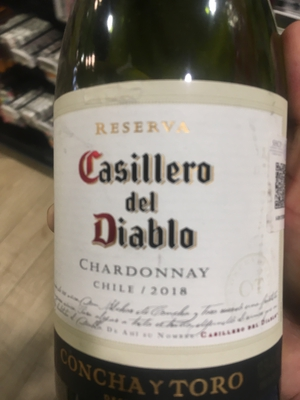casillero del diablo chardonnay: (54, 6, 290, 400)
